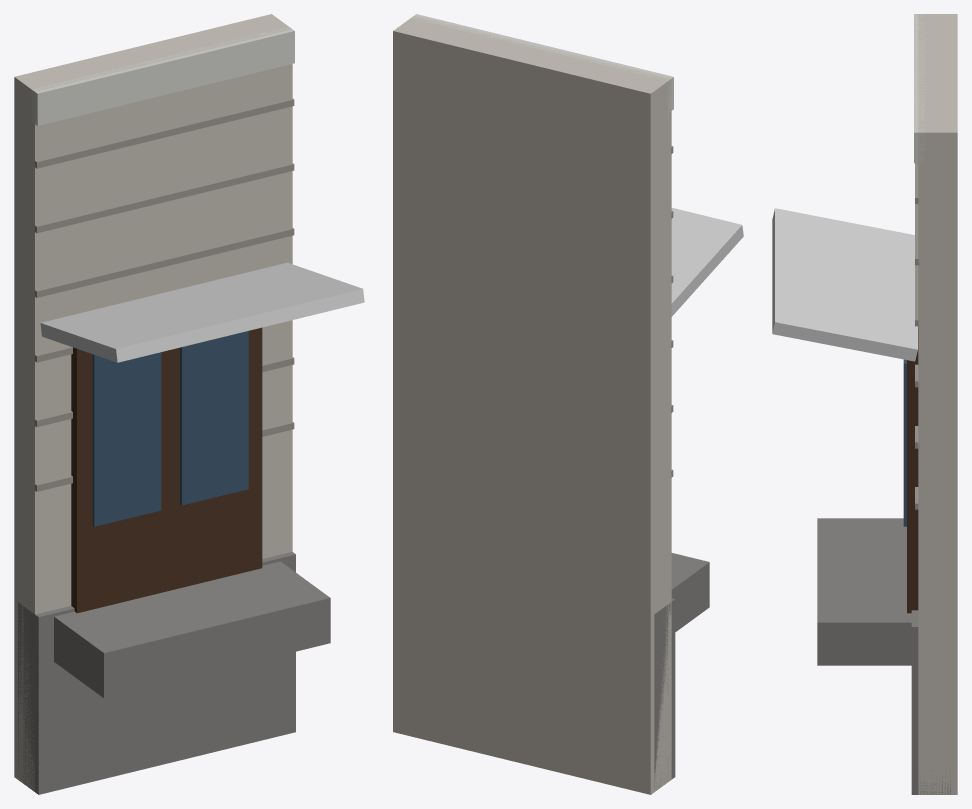
File: lodge_door.obj
3 views of the same model, side by side, from view 1: azimuth 30°, elevation 25°; view 2: azimuth 150°, elevation 25°; view 3: azimuth 270°, elevation 25° (orthographic). The views are drawn at different scales.
Size of the model in its own units: 2.5 by 6.5 by 1.65.
